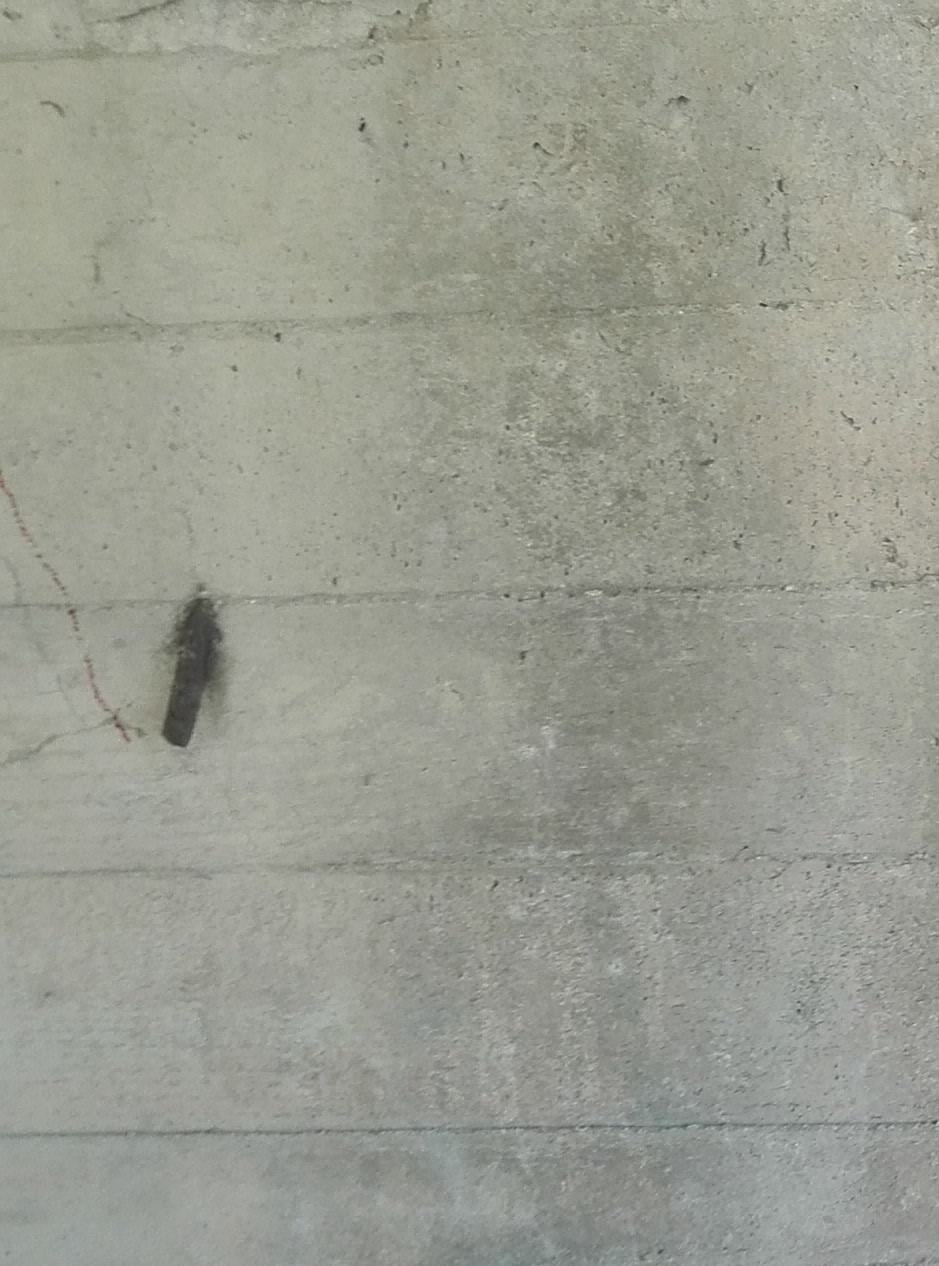Exposed reinforcement: (161, 596, 212, 749)
